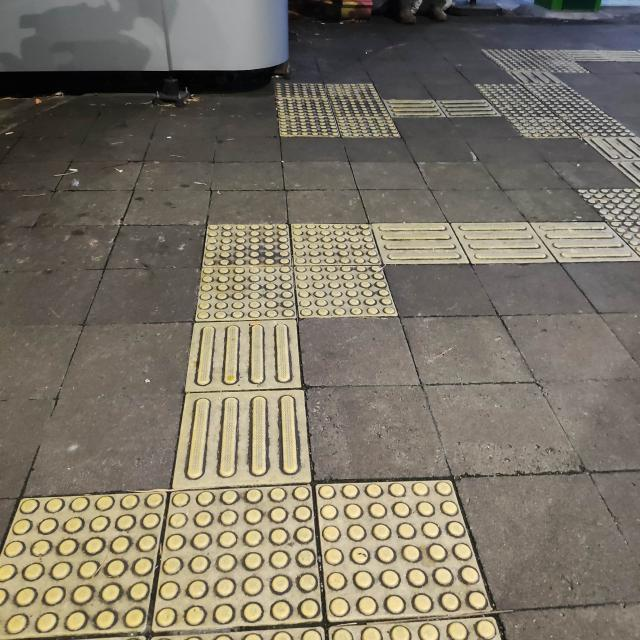kanan: (140, 185, 542, 367)
